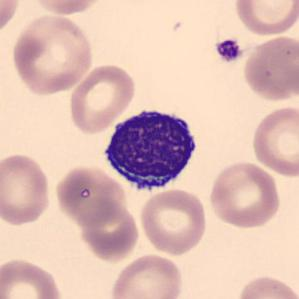Lymphocyte: (96, 100, 204, 198)
Platelets: (214, 37, 242, 63)
RBC: (9, 12, 96, 98), (207, 159, 283, 230), (66, 62, 138, 136), (138, 187, 209, 256), (52, 164, 127, 227), (78, 198, 142, 264), (0, 151, 54, 227), (241, 34, 298, 103), (249, 104, 299, 179), (108, 252, 185, 299), (0, 256, 65, 299), (232, 0, 298, 38), (234, 272, 298, 299), (26, 0, 108, 17), (0, 0, 22, 39)
